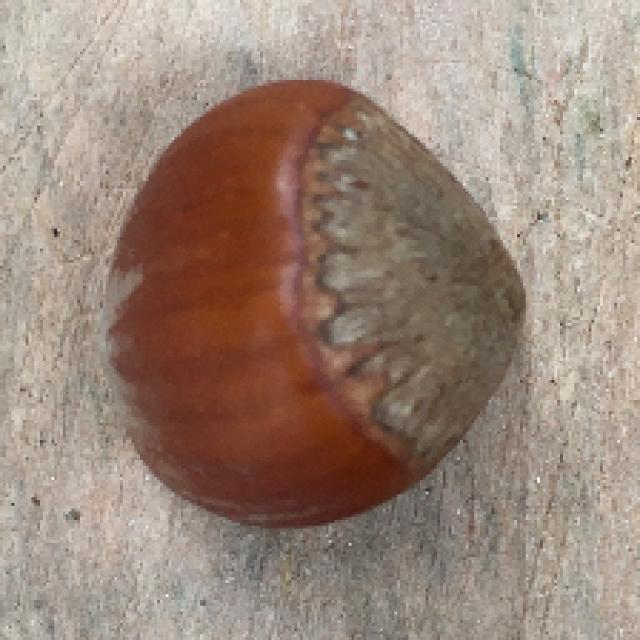QualityHazelnut: (96, 74, 529, 529)
